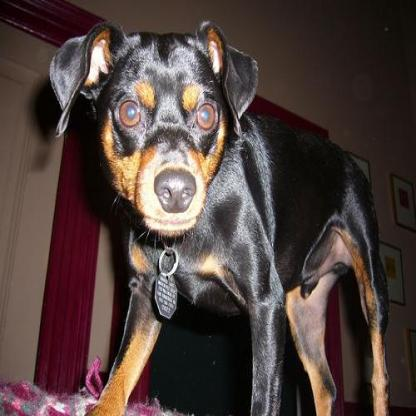miniature_pinscher: (51, 22, 390, 412)
